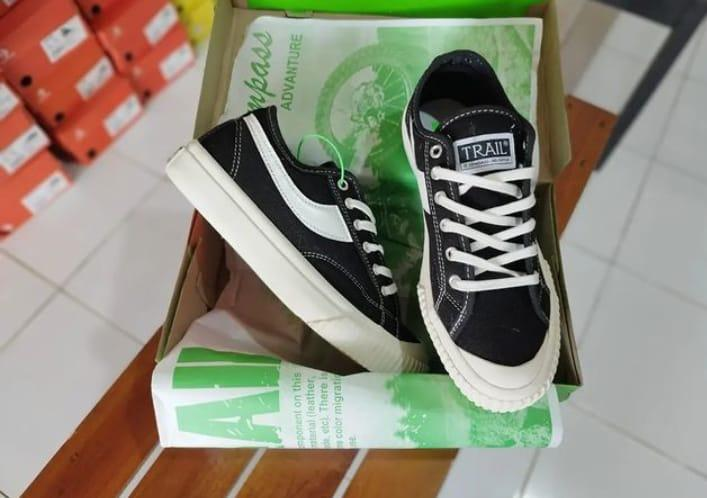shoe: (166, 46, 425, 406)
